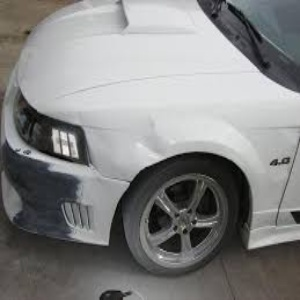bumper_scratch: (1, 155, 124, 247)
